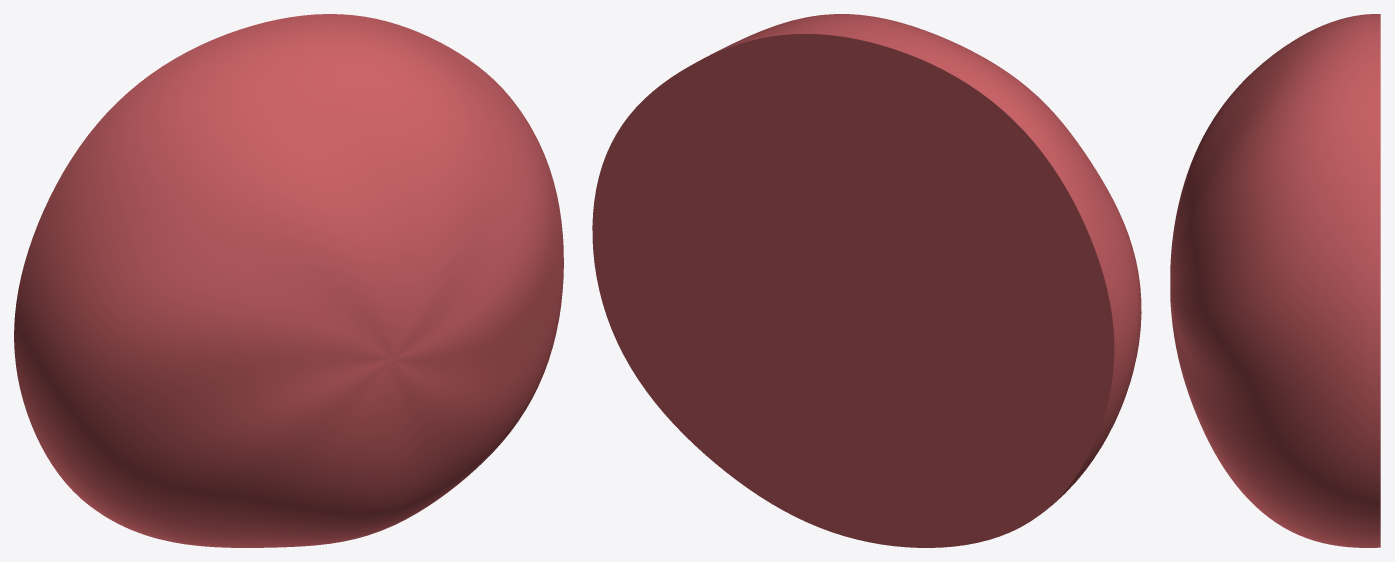
File: cavity_body.obj
3 views of the same model, side by side, from view 1: azimuth 30°, elevation 25°; view 2: azimuth 150°, elevation 25°; view 3: azimuth 270°, elevation 25° (orthographic). The views are drawn at different scales.
Visible parts, largest first — view 1: cavity; view 2: cavity; view 3: cavity.
Part boxes in pixels (x1,y1,x2,y2): cavity: [14, 14, 563, 547]; cavity: [592, 14, 1141, 547]; cavity: [1170, 14, 1380, 547].
Size of the model in its own units: 0.6474 by 0.5946 by 0.2401.
